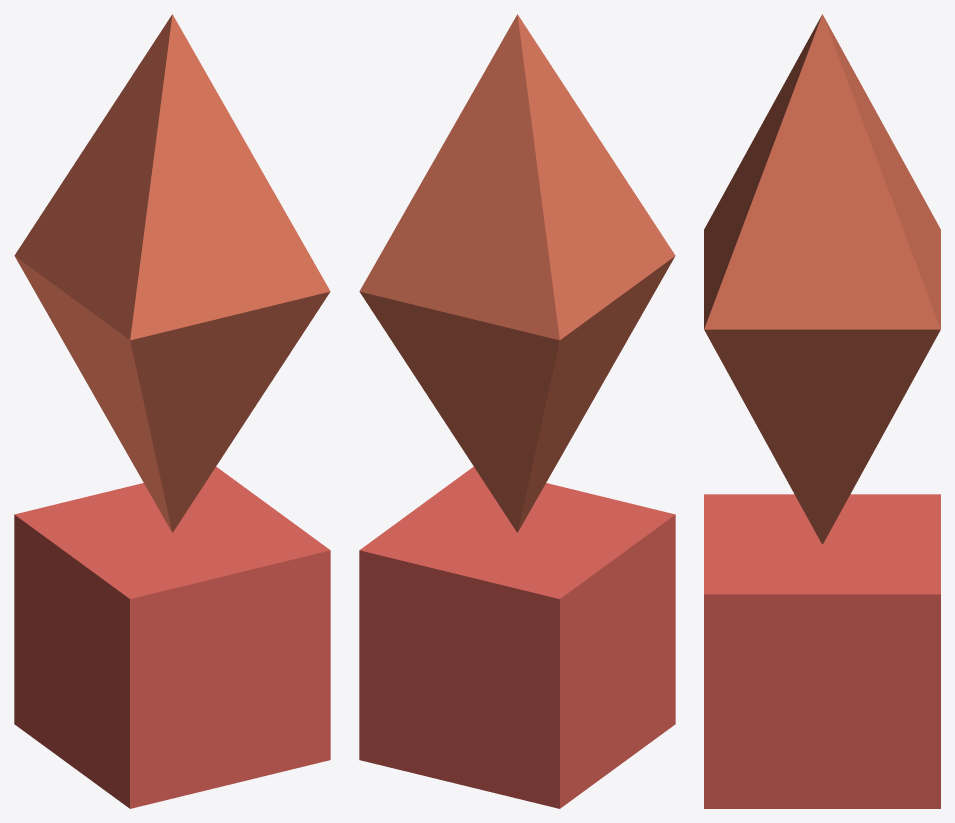
Rendered from Catalyst.glb.
3 views of the same model, side by side, from view 1: azimuth 30°, elevation 25°; view 2: azimuth 150°, elevation 25°; view 3: azimuth 270°, elevation 25° (orthographic). The views are drawn at different scales.
Visible parts, largest first — view 1: Cube, Cube.001; view 2: Cube, Cube.001; view 3: Cube.001, Cube.
Part boxes in pixels (left/top/right/bottom): Cube: left=14, top=466, right=330, bottom=808; Cube.001: left=14, top=14, right=330, bottom=532; Cube: left=359, top=466, right=675, bottom=808; Cube.001: left=359, top=14, right=675, bottom=532; Cube.001: left=704, top=14, right=940, bottom=544; Cube: left=704, top=494, right=940, bottom=808.
Bounding box in the file's own units: 8 × 27.77 × 8.
